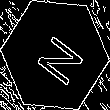N_NW: (26, 24, 84, 86)
